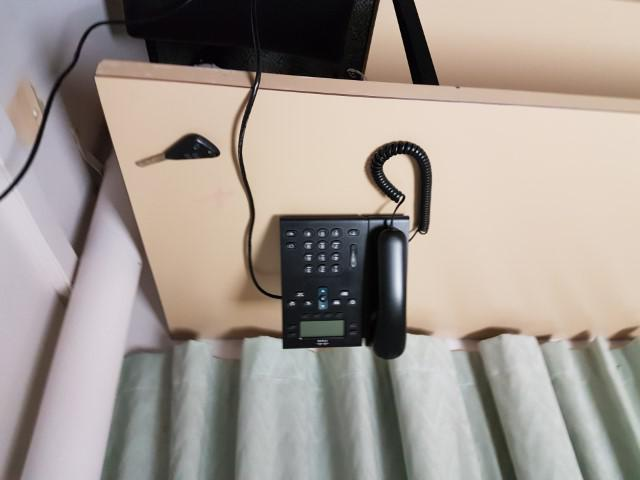key: (131, 129, 222, 174)
